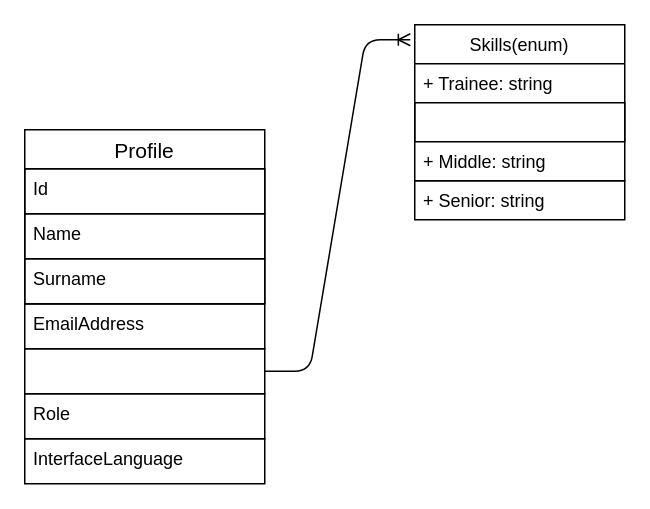
This 650x509 diagram has some shape labels left out. Here are the shapes that lost their labels. From the top down, the centre of each, then its label:
point 519,121: + Juniour: string
point 144,370: Skill
